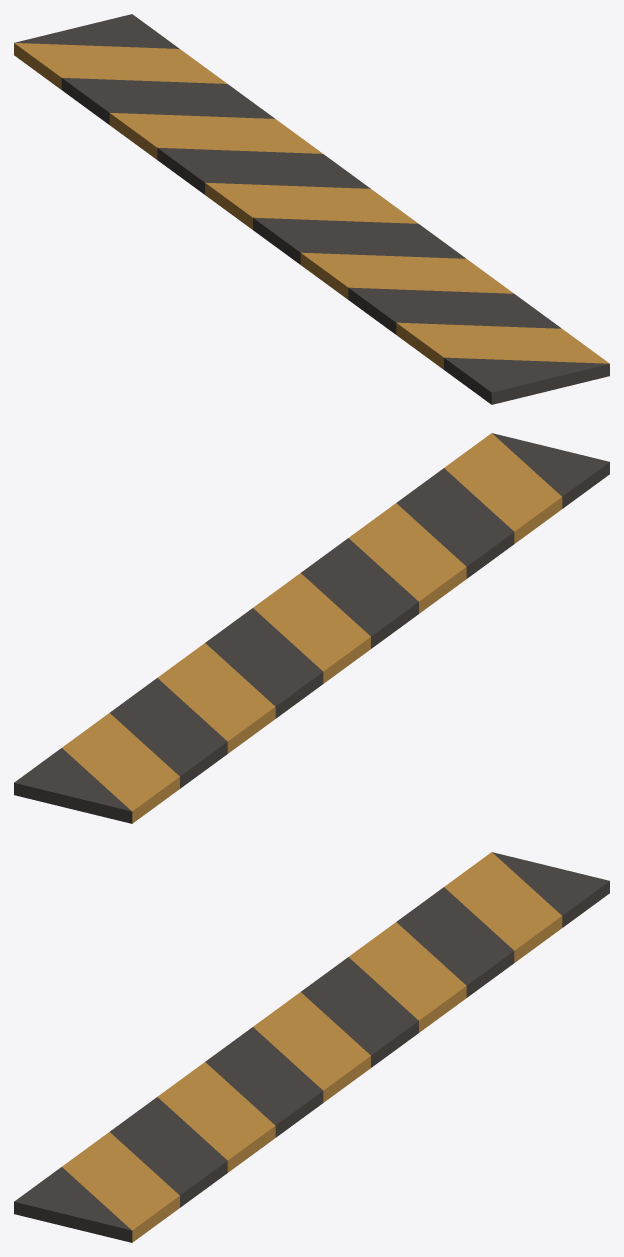
File: CautionLabels.fbx
3 views of the same model, one above another, from view 1: azimuth 30°, elevation 25°; view 2: azimuth 150°, elevation 25°; view 3: azimuth 330°, elevation 25° (orthographic).
Visible parts, largest first — view 1: Caution_Labels; view 2: Caution_Labels; view 3: Caution_Labels.
Part boxes in pixels (box(x1,y1,x2,y2)): Caution_Labels: box(14, 14, 609, 404); Caution_Labels: box(14, 433, 609, 823); Caution_Labels: box(14, 852, 609, 1242).
Bounding box in the file's own units: 1 × 7 × 0.1.
